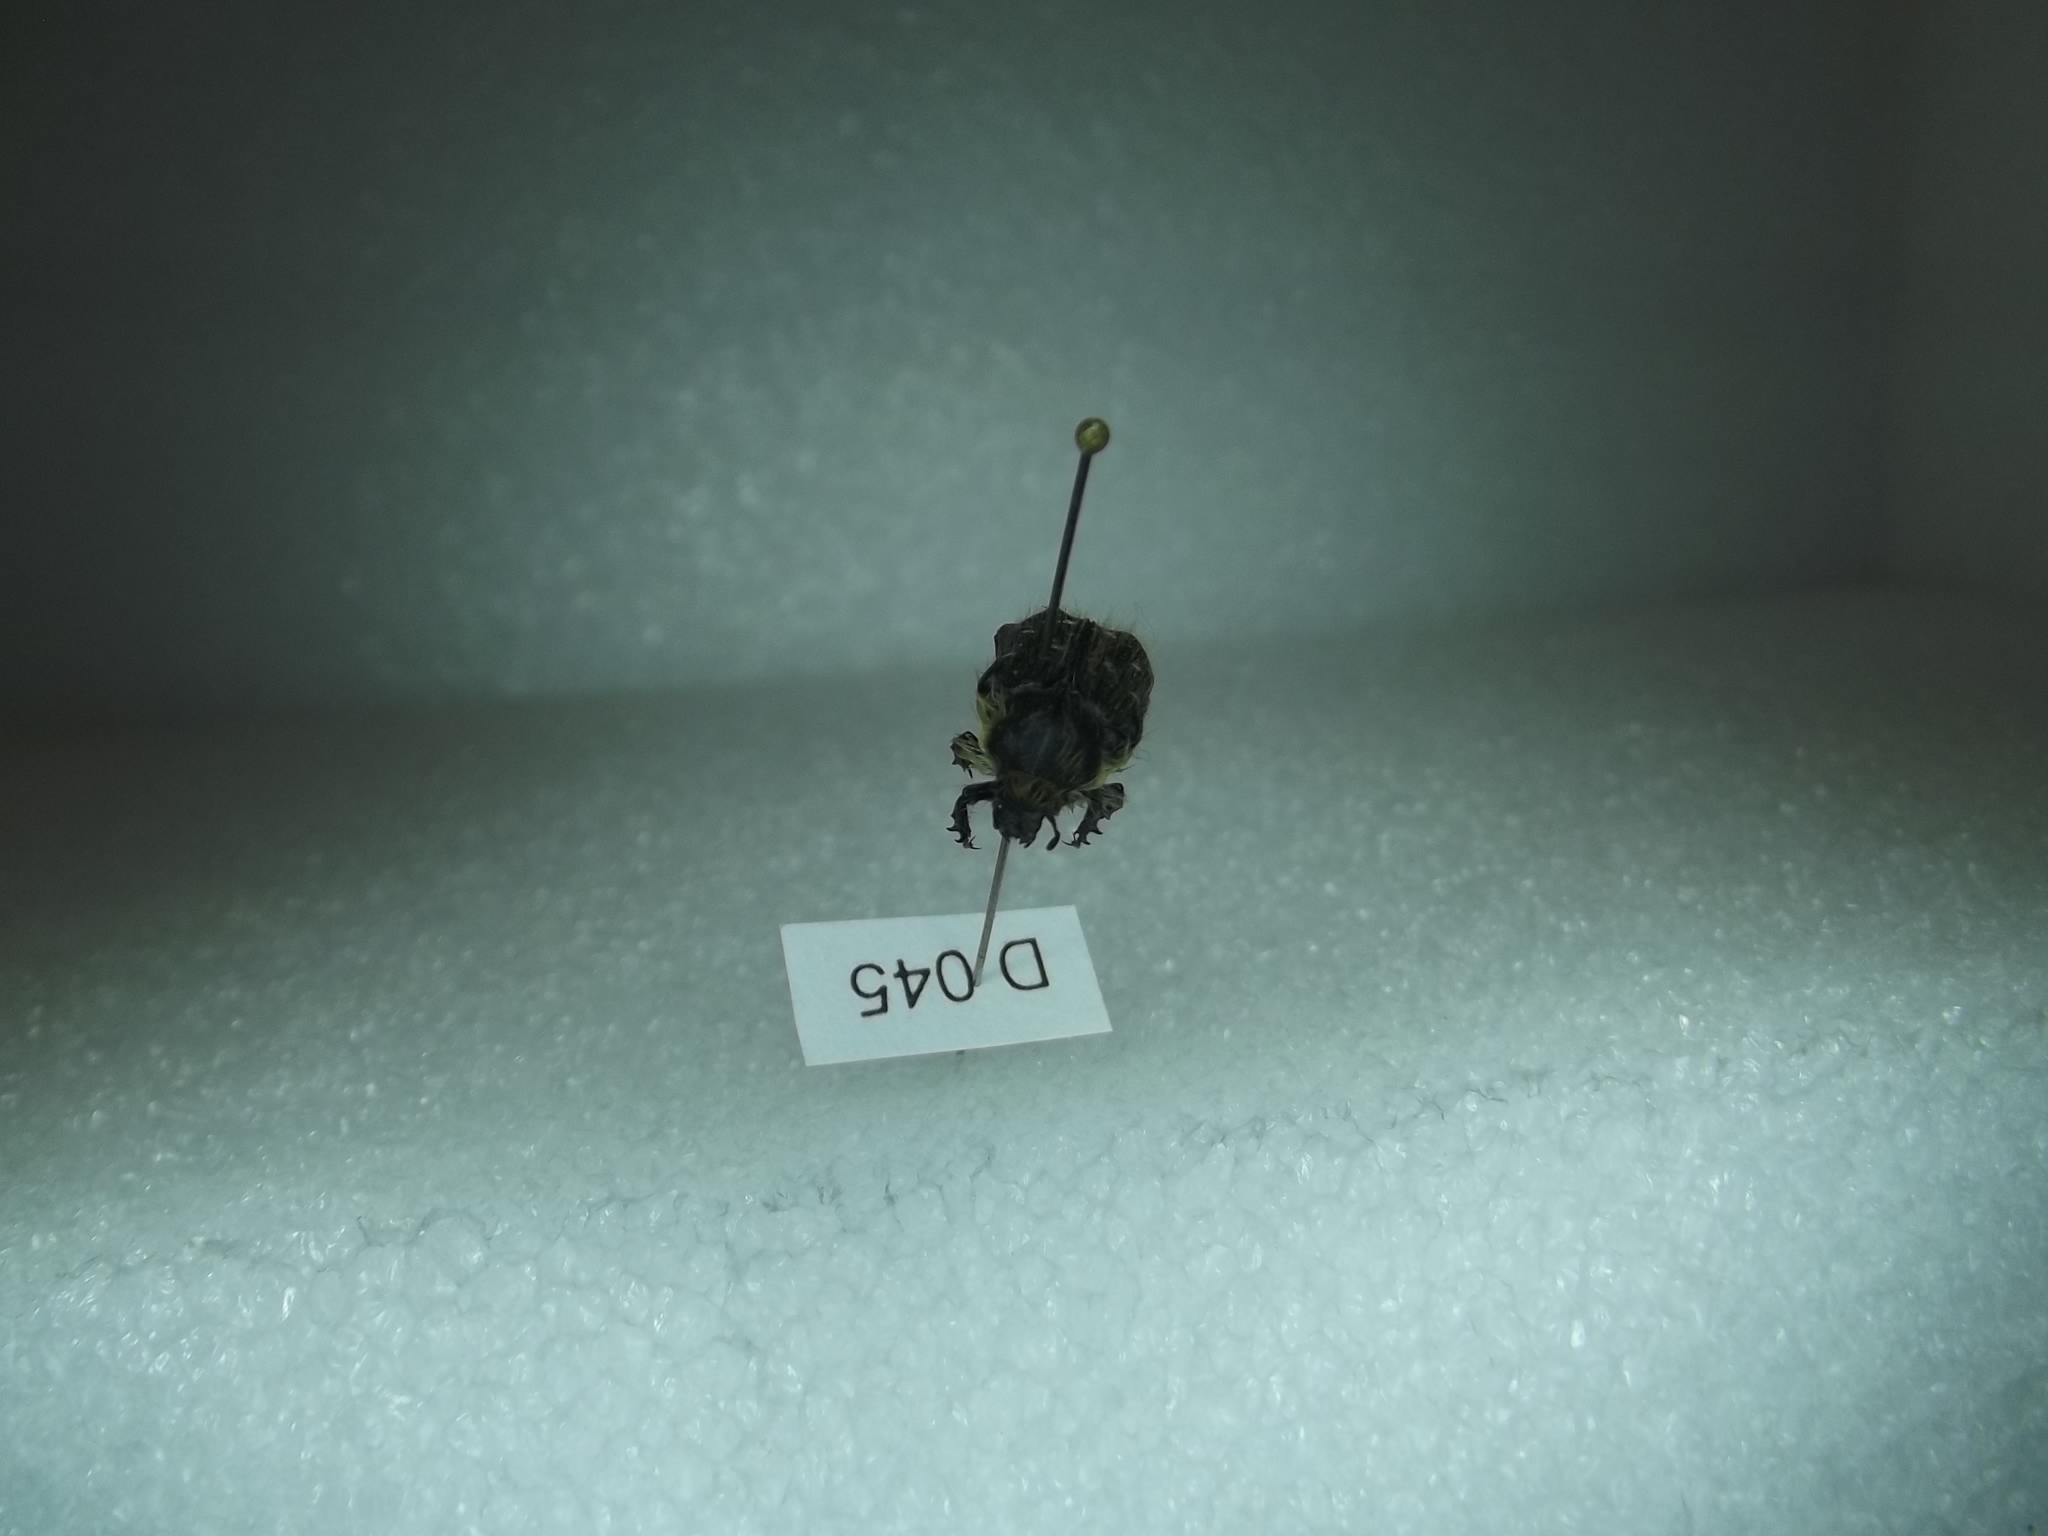Tropinota_hirta: (939, 587, 1176, 891)
